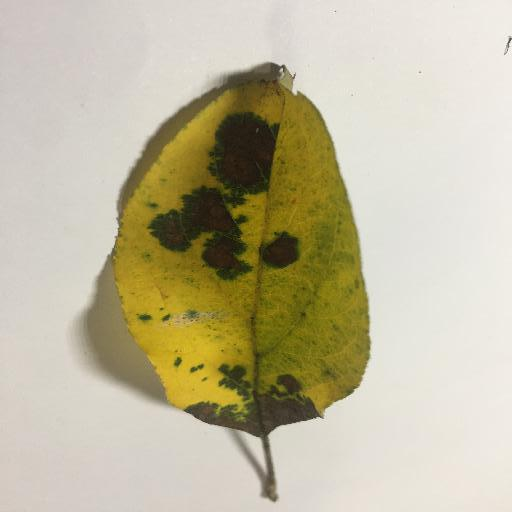Brown_Spot: (179, 386, 322, 432), (218, 129, 273, 187), (169, 194, 225, 234), (257, 230, 298, 263), (204, 241, 240, 267)
